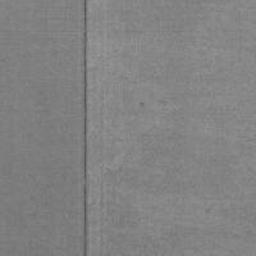Welding line: (82, 0, 88, 256)
